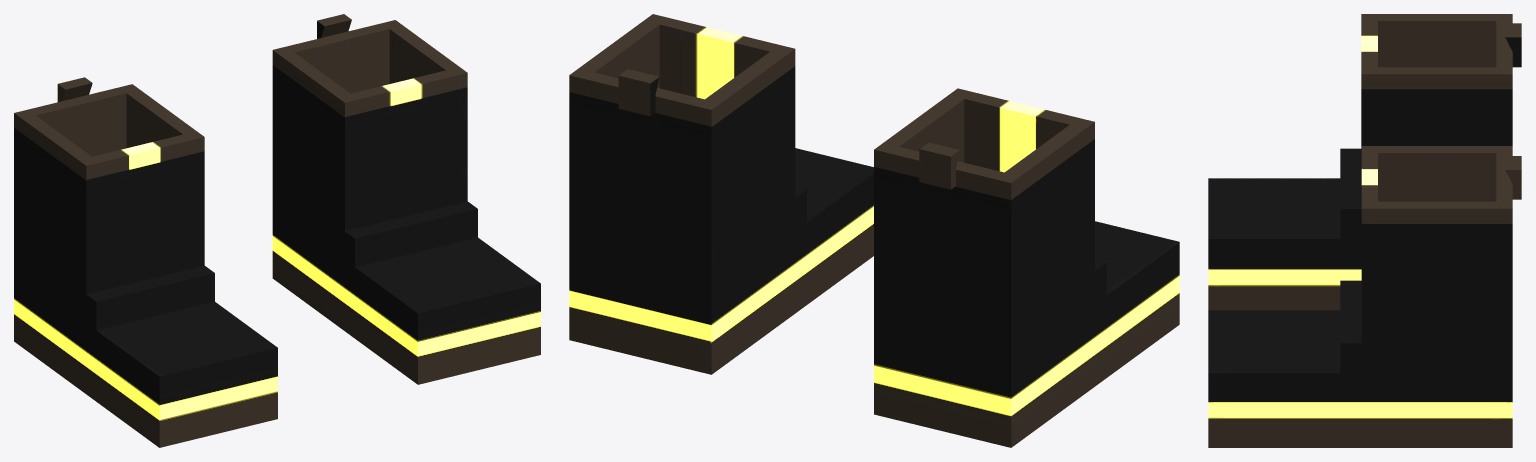
File: led_boots_yellow.glb
3 views of the same model, side by side, from view 1: azimuth 30°, elevation 25°; view 2: azimuth 150°, elevation 25°; view 3: azimuth 270°, elevation 25° (orthographic). The views are drawn at different scales.
Visible parts, largest first — view 1: black_boots.001; view 2: black_boots.001; view 3: black_boots.001.
Part boxes in pixels (x1=…): black_boots.001: x1=14, y1=14, x2=540, y2=447; black_boots.001: x1=569, y1=14, x2=1179, y2=447; black_boots.001: x1=1208, y1=14, x2=1521, y2=447.
Size of the model in its own units: 2.79 by 1.7 by 1.9.
1 material, 1 textured.
